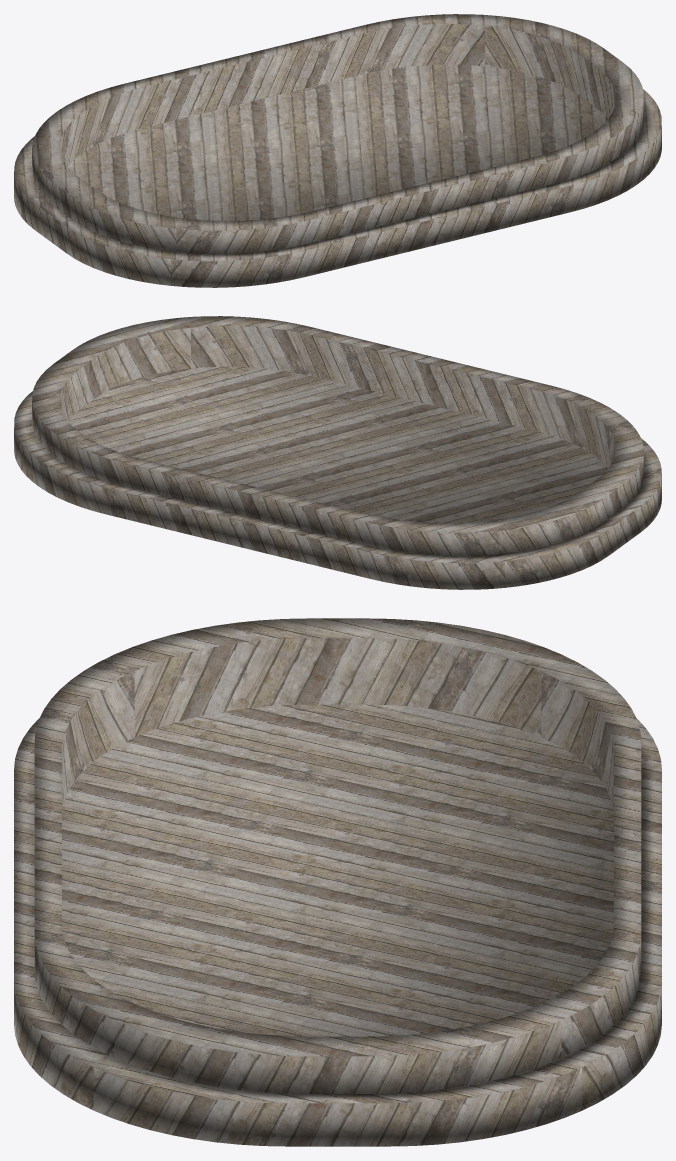
The model's file is 001 burger.glb.
The picture shows the model from 3 angles, top to bottom: view 1: azimuth 30°, elevation 25°; view 2: azimuth 150°, elevation 25°; view 3: azimuth 270°, elevation 25°; orthographic projection. The views are drawn at different scales.
Parts seen in each view (by area): view 1: Plane; view 2: Plane; view 3: Plane.
Boxes of the visible parts, bbox=[...] form: Plane: bbox=[14, 14, 661, 287]; Plane: bbox=[14, 316, 661, 589]; Plane: bbox=[14, 618, 661, 1146].
Bounding box in the file's own units: 1.07 × 0.0883 × 0.6409.
Materials: 1 (1 with a texture image).
